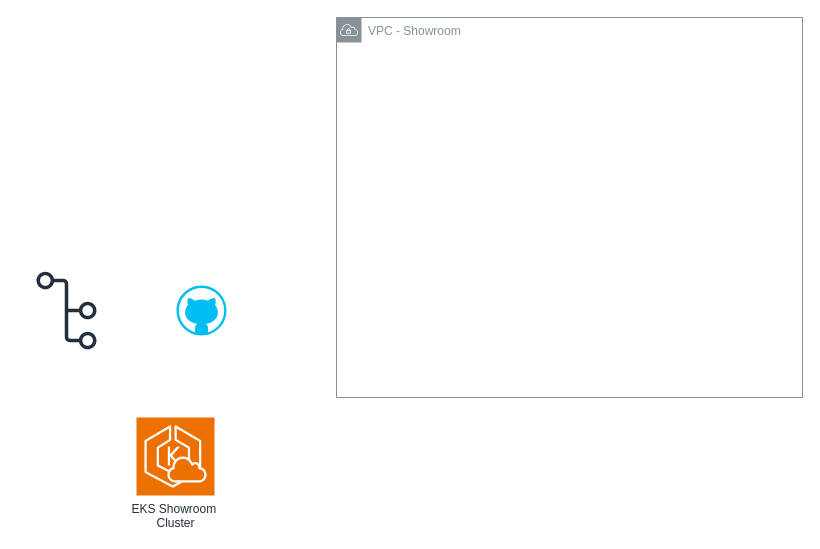
Image size: 820x549. Some labels were removed from this diagram. The box of each missing label's shape, as (x1, y1, x2, y2) in pixels:
Git Hub Actions CI / CD: (176, 285, 226, 335)
GitHub Repository: (36, 271, 96, 349)
